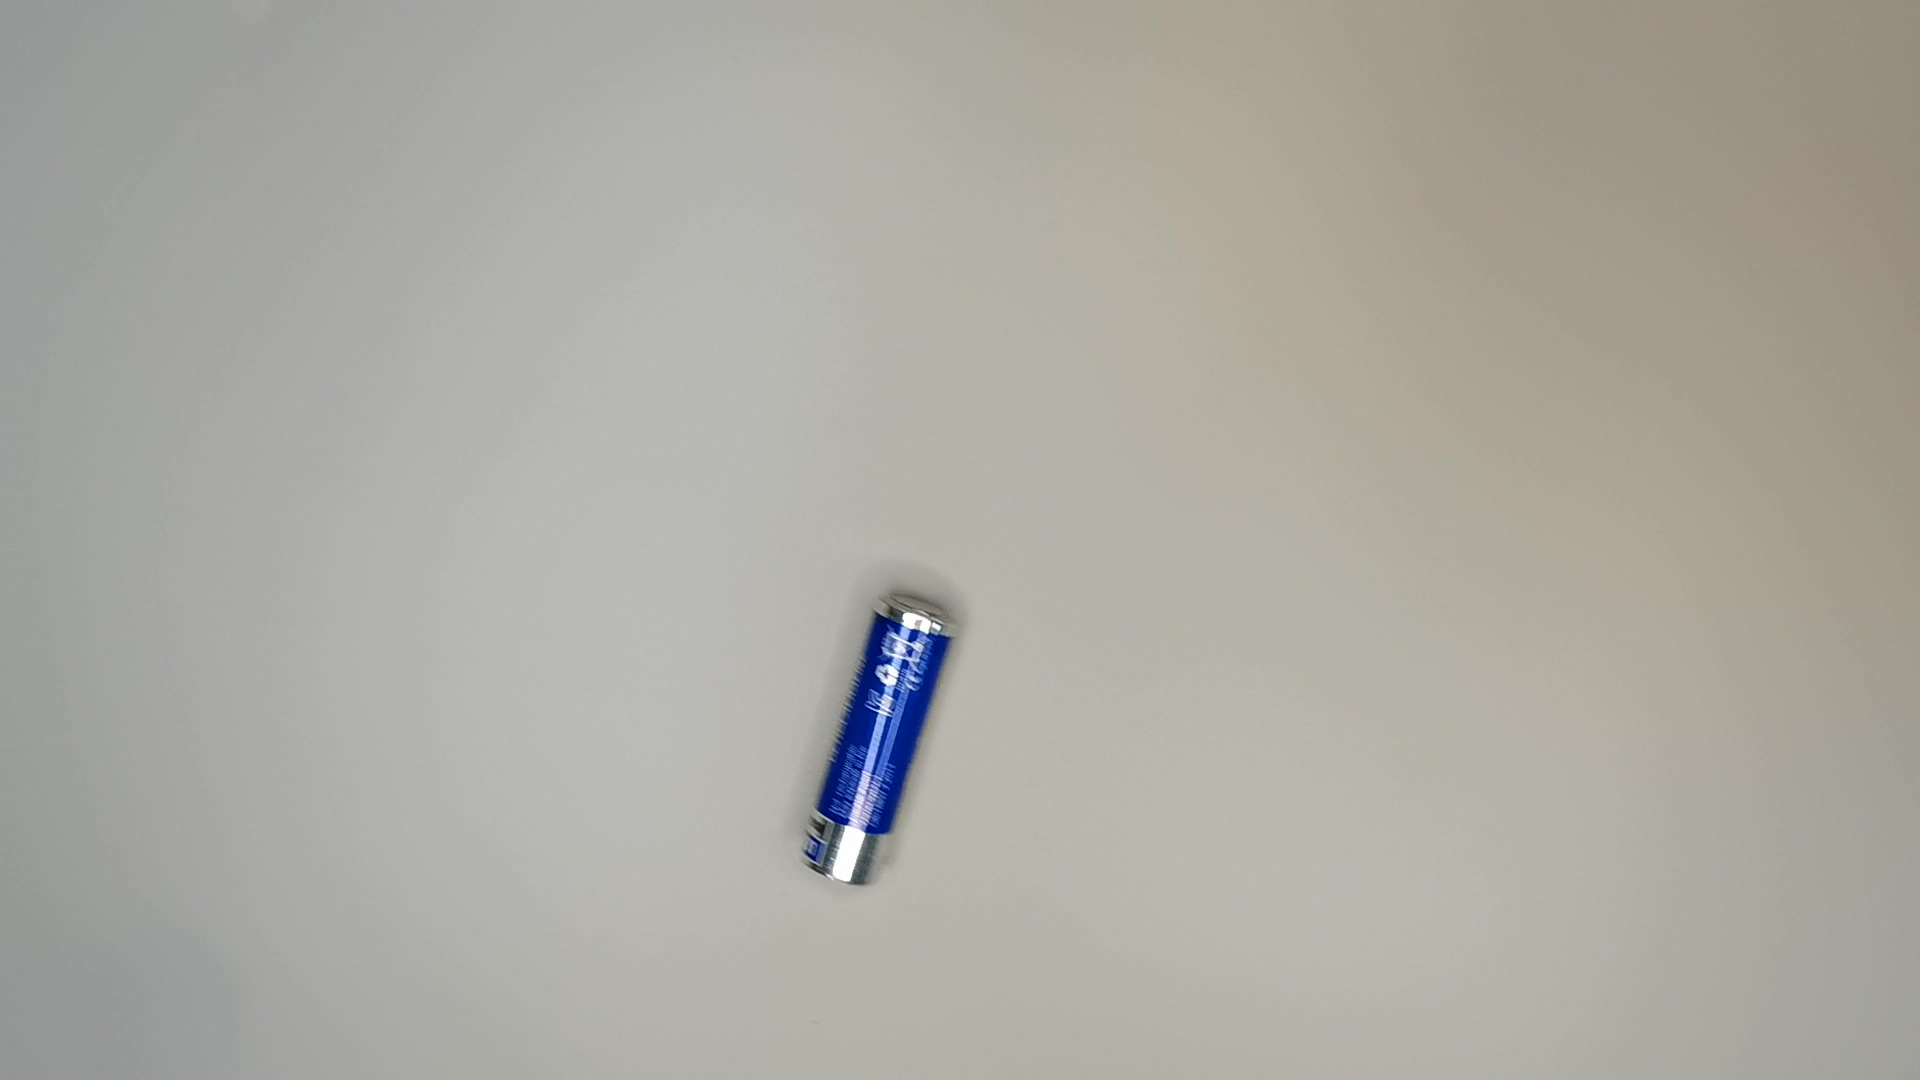battery: (796, 583, 967, 886)
